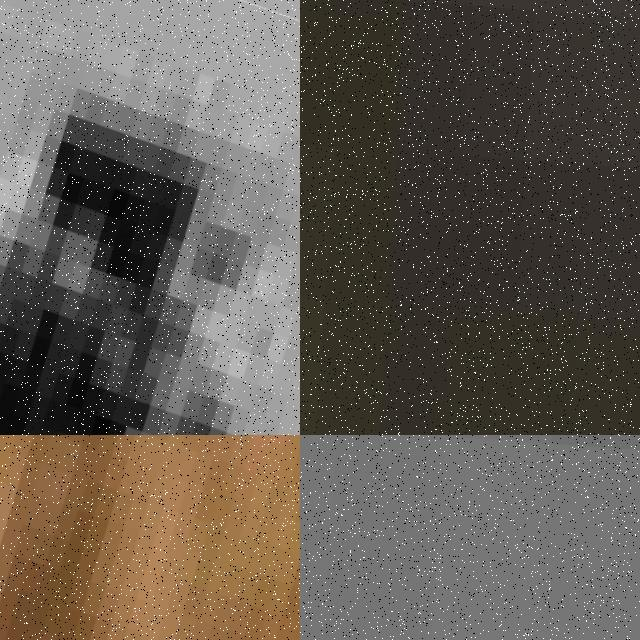drone: (0, 0, 300, 435), (0, 435, 300, 640)
